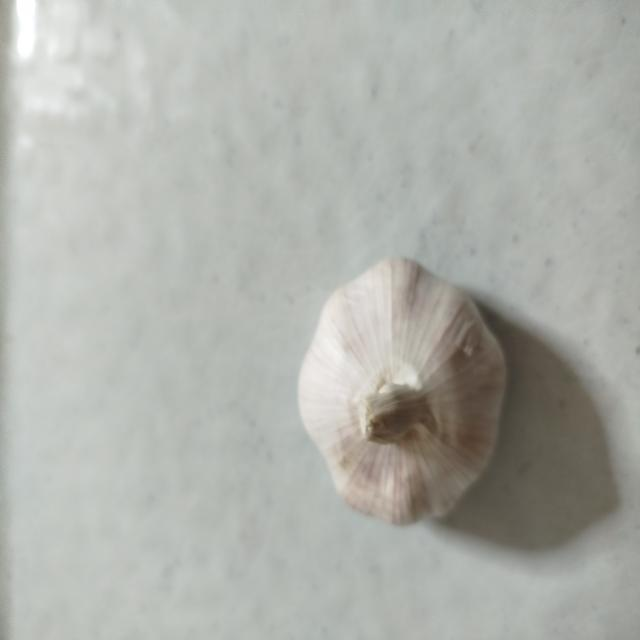garlic: (297, 255, 508, 526)
